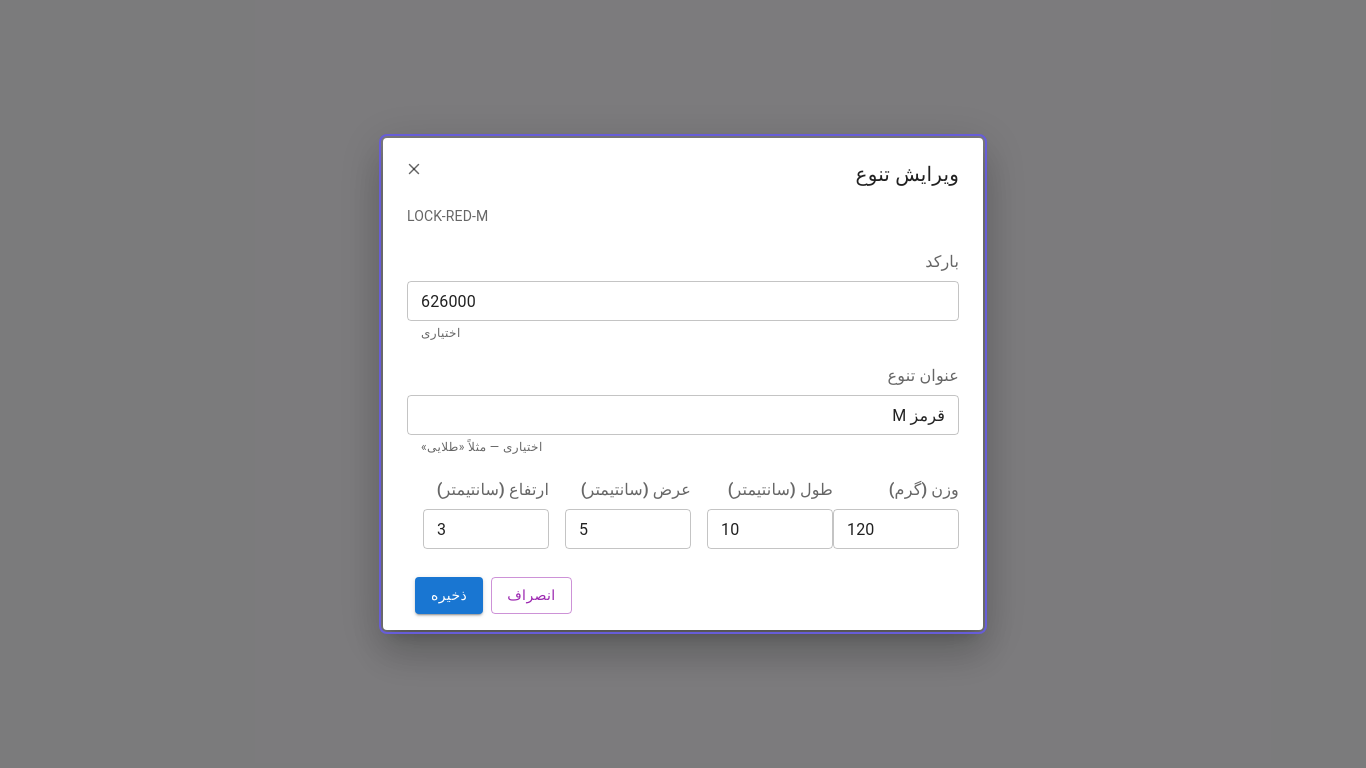
Test: VariantEditDialog › surfaces a generic error on failure
The image size is (1366, 768).
Replace the text in the field labelled "بارکد" with "626001" at [683, 301], box [407, 281, 959, 321]
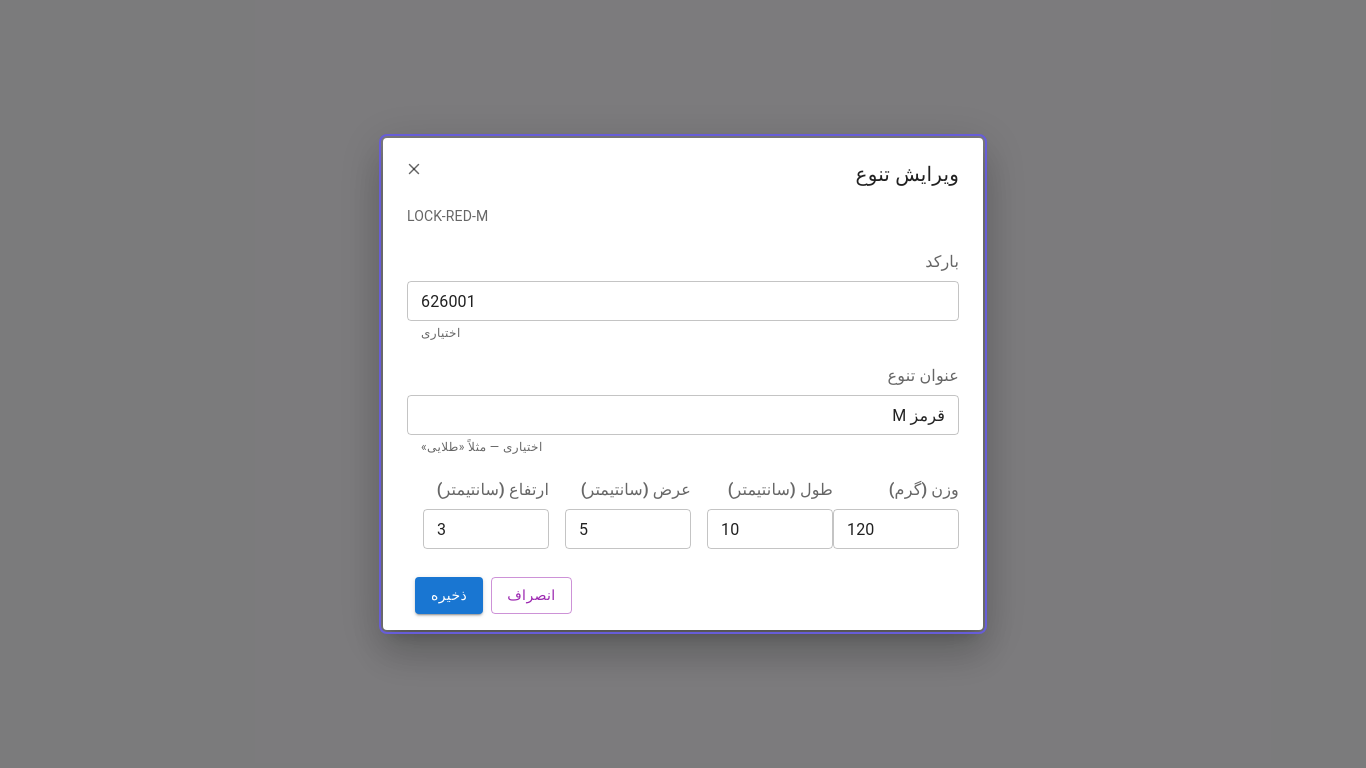
Click the button "ذخیره" at [449, 595], box [415, 577, 483, 614]
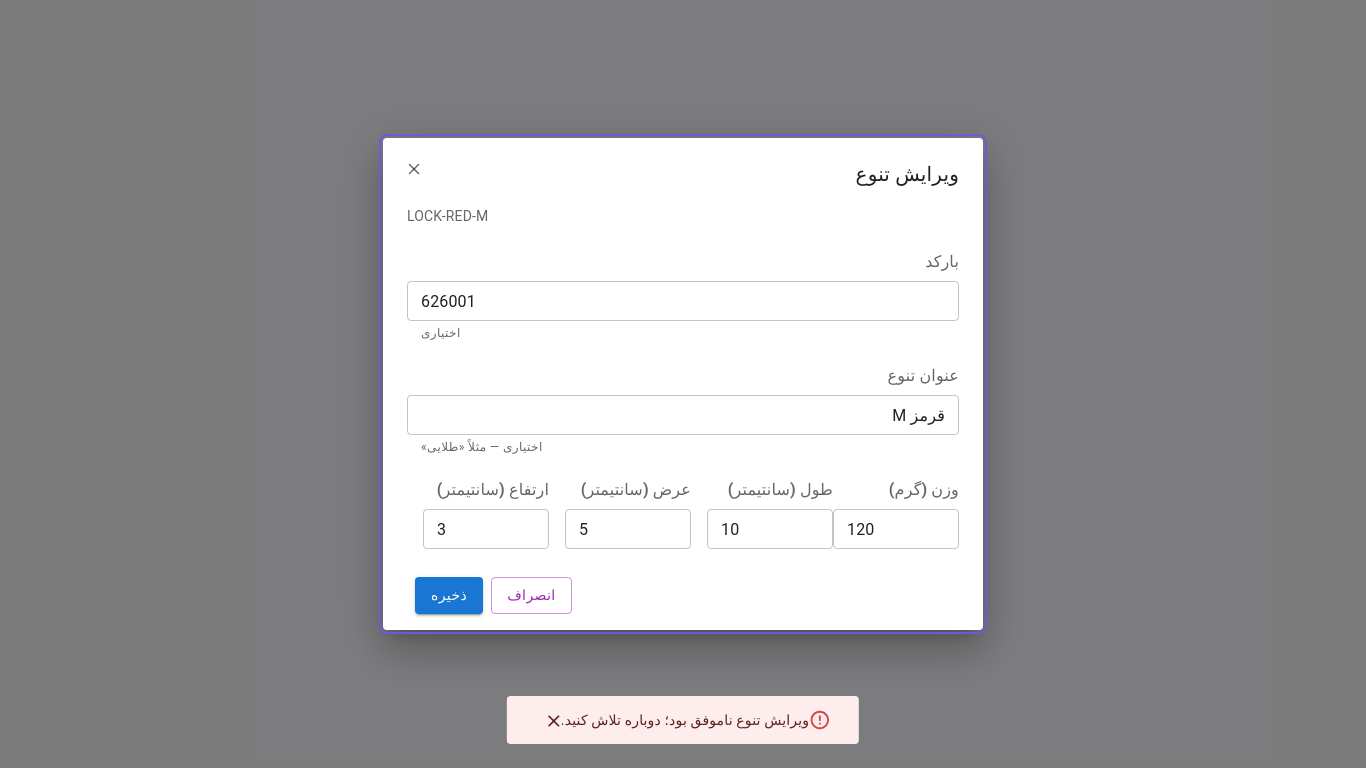
Now the text "ویرایش تنوع ناموفق بود؛ دوباره تلاش کنید." is shown, box [561, 712, 809, 728]
